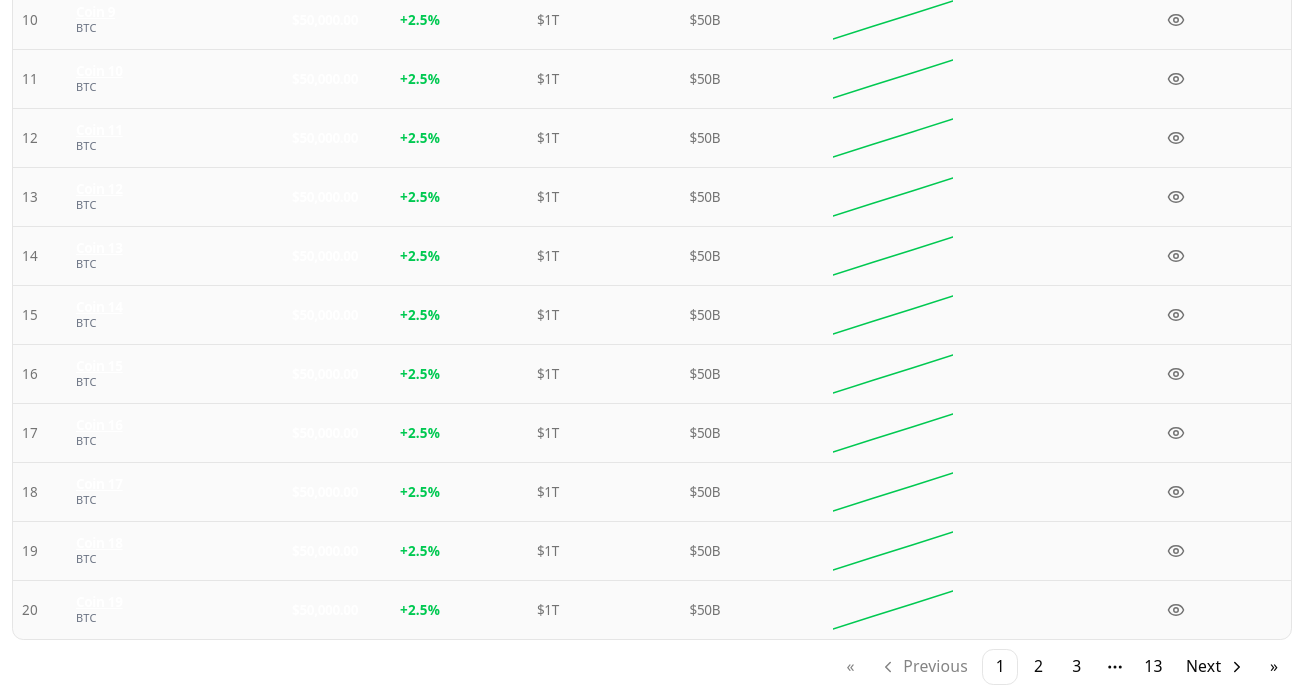
Test: CoinTableSection › updates page when pagination is used
(page scrolled)
Click the button "2": (1039, 666) [1034,655,1043,677]
(page scrolled)
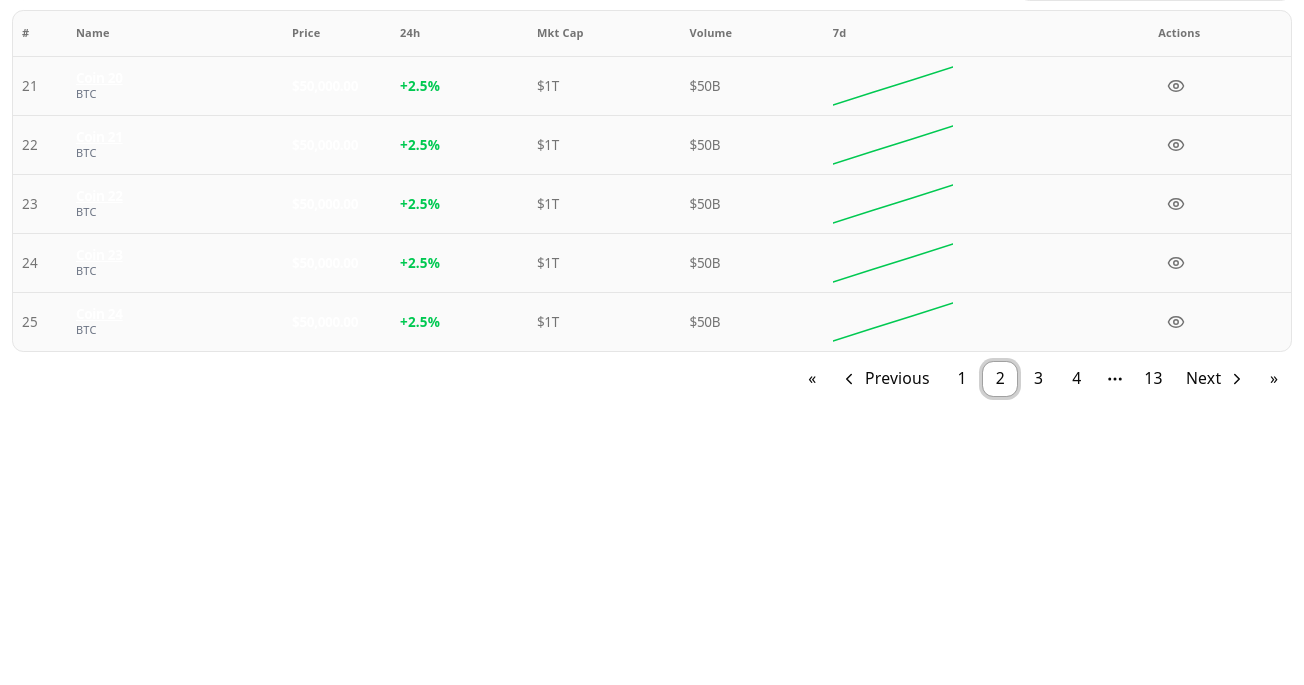
Now the text "Coin 0" is gone
